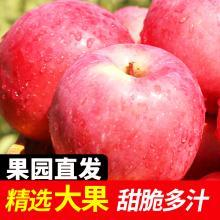apple: (50, 44, 205, 178), (1, 1, 134, 138), (144, 1, 220, 112)
